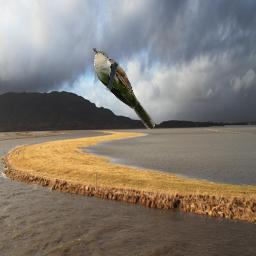Cuckoo: (93, 48, 155, 129)
